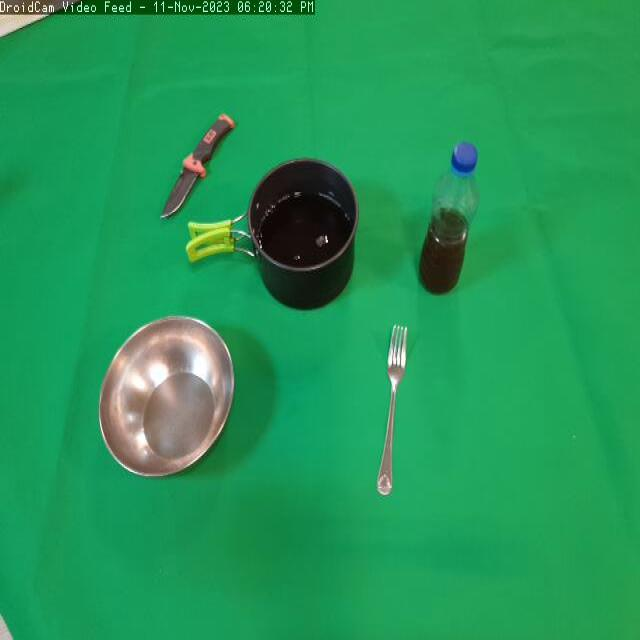bowl: (90, 314, 240, 488)
fork: (370, 314, 422, 511)
fullbottle: (416, 134, 484, 304)
fullpot: (249, 151, 361, 316)
knife: (158, 106, 240, 226)
